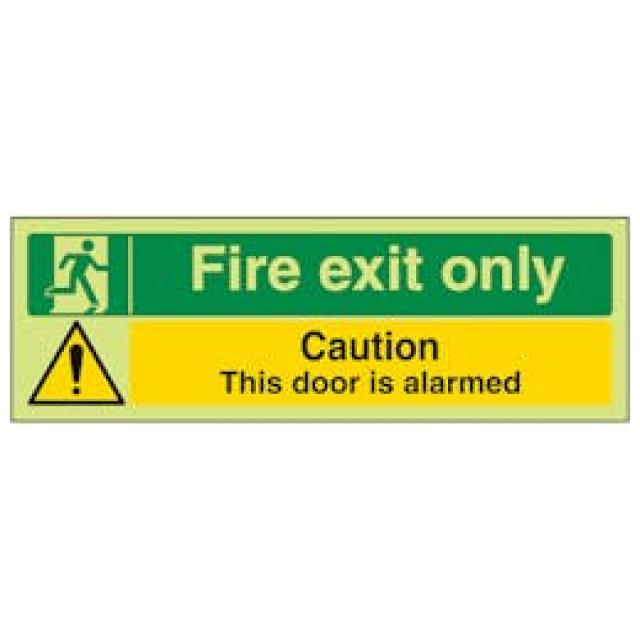exit_sign: (4, 202, 640, 442)
